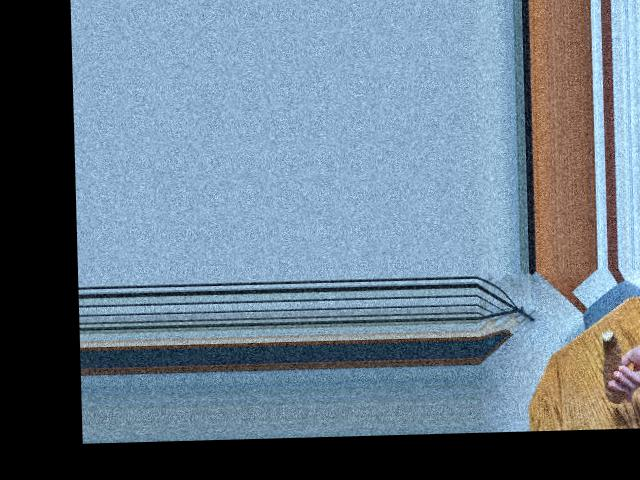sweet_potato: (603, 328, 620, 391)
